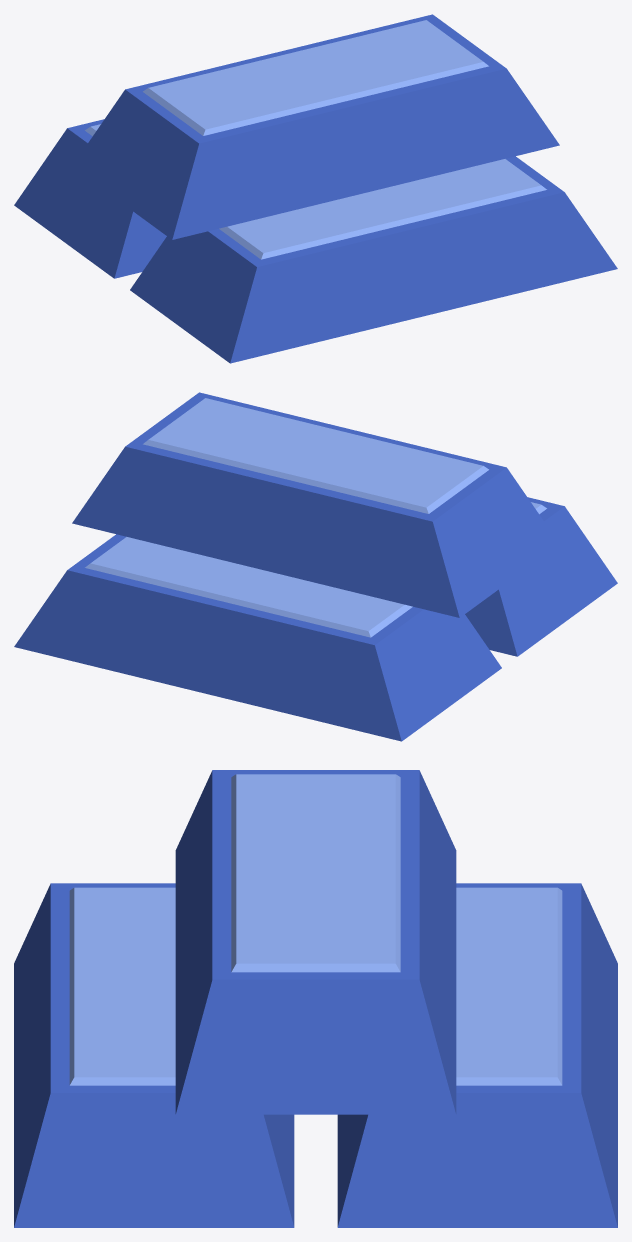
Rendered from drop_bar_mithril.glb.
The picture shows the model from 3 angles, top to bottom: view 1: azimuth 30°, elevation 25°; view 2: azimuth 150°, elevation 25°; view 3: azimuth 270°, elevation 25°; orthographic projection. The views are drawn at different scales.
Visible parts, largest first — view 1: drop_bar_mithril; view 2: drop_bar_mithril; view 3: drop_bar_mithril.
Part boxes in pixels (box(x1,y1,x2,y2)): drop_bar_mithril: box(14, 14, 617, 363); drop_bar_mithril: box(14, 392, 617, 741); drop_bar_mithril: box(14, 770, 617, 1227).
Size of the model in its own units: 0.29 by 0.116 by 0.28.
